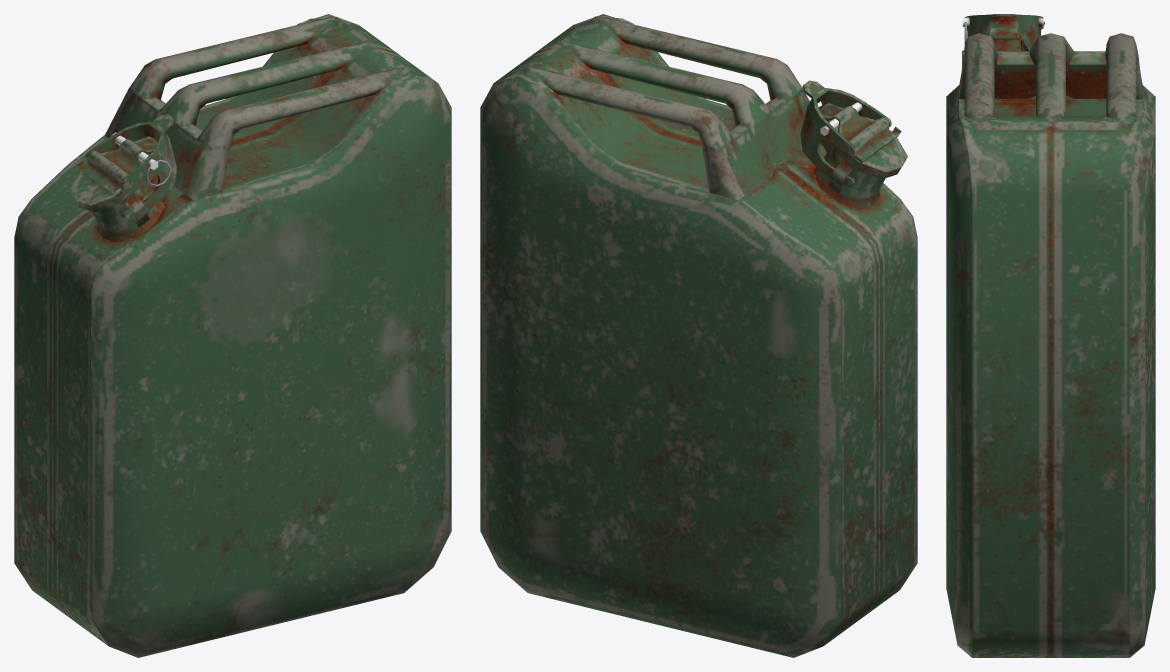
The model's file is oil_tank.fbx.
3 views of the same model, side by side, from view 1: azimuth 30°, elevation 25°; view 2: azimuth 150°, elevation 25°; view 3: azimuth 270°, elevation 25° (orthographic). The views are drawn at different scales.
Visible parts, largest first — view 1: Object037; view 2: Object037; view 3: Object037.
Part boxes in pixels (bbox=[...]): Object037: bbox=[14, 14, 451, 657]; Object037: bbox=[480, 14, 917, 657]; Object037: bbox=[946, 14, 1155, 657].
Size of the model in its own units: 33.86 by 46.81 by 16.5.
